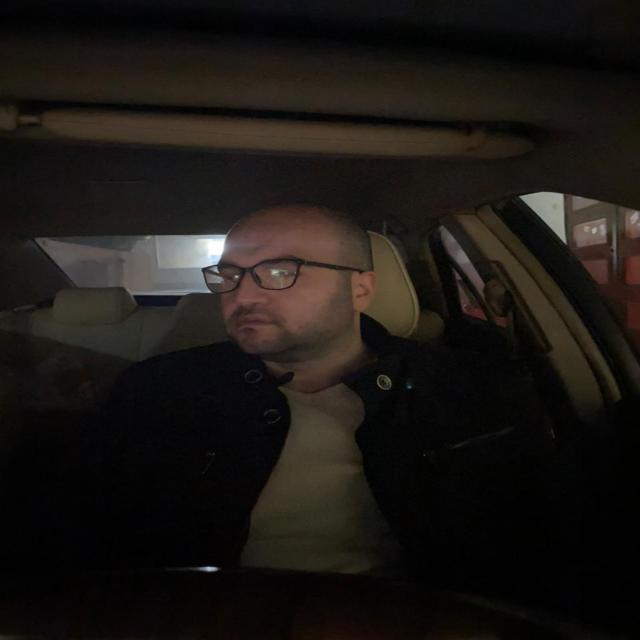person: (199, 196, 381, 373)
